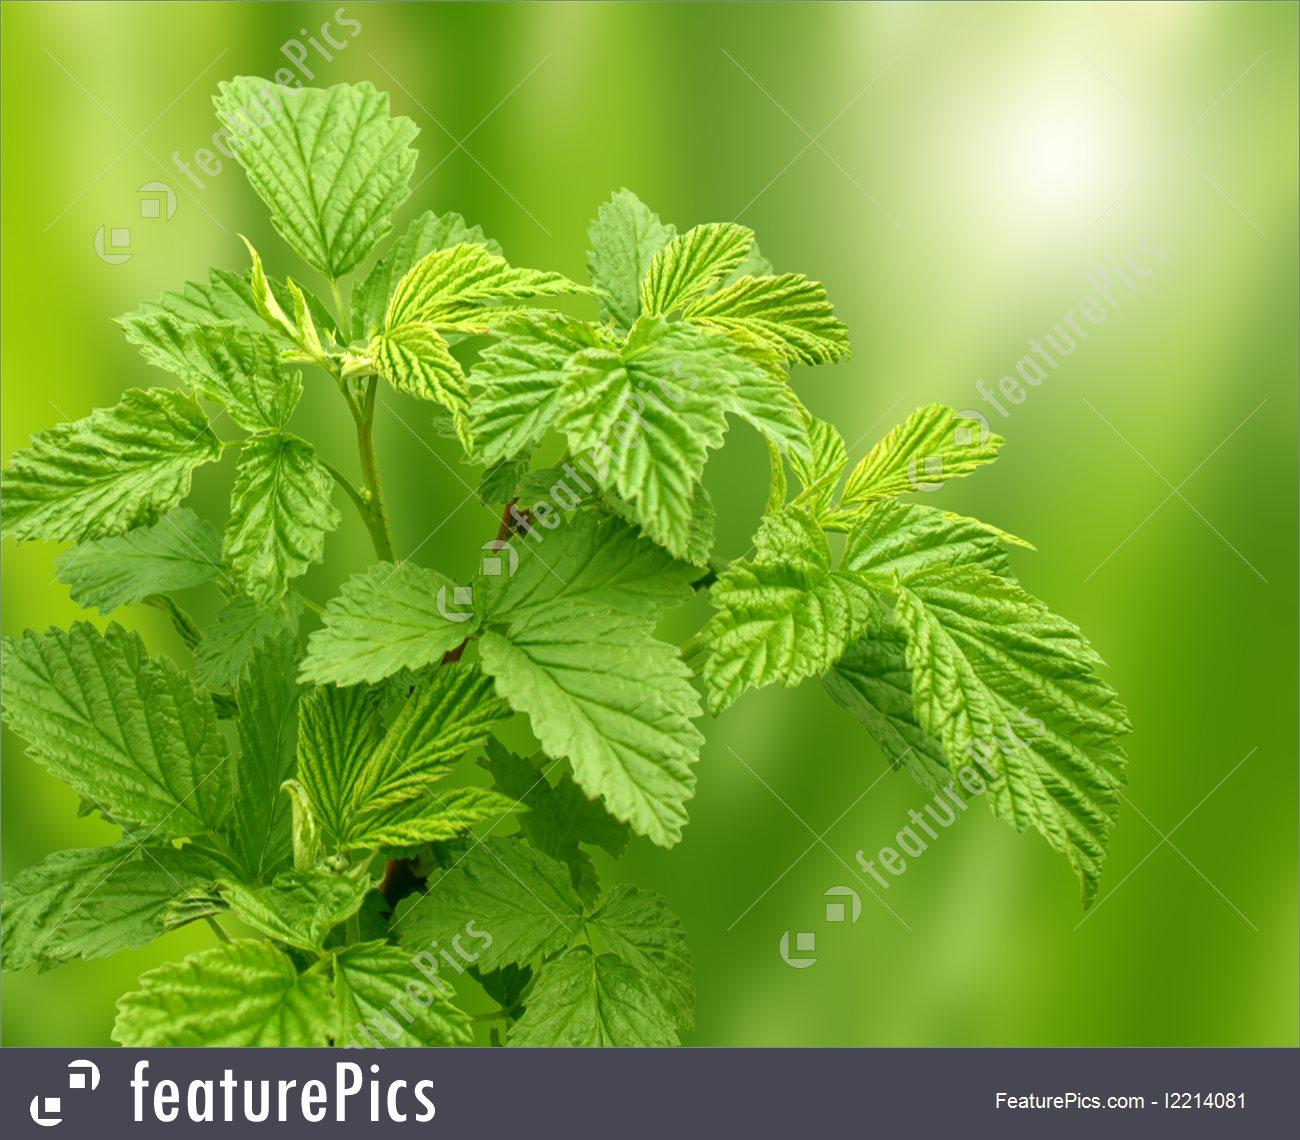Raspberry leaf: (891, 574, 1129, 916), (479, 604, 698, 856), (212, 66, 424, 275), (690, 548, 846, 732), (291, 553, 496, 691)
